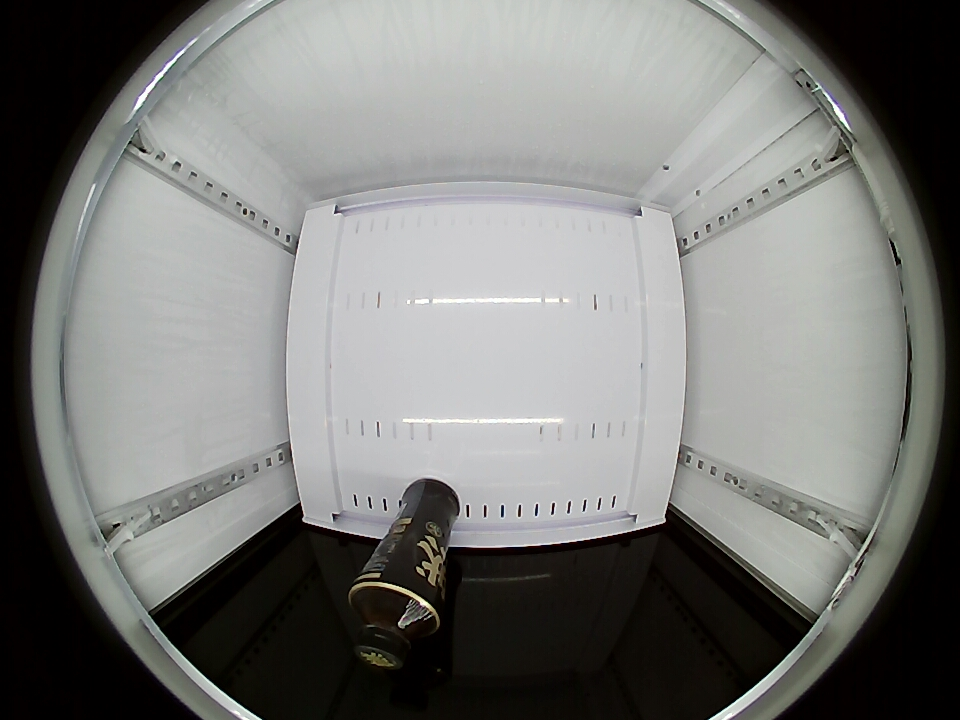rancha-1: (349, 575, 444, 671)
